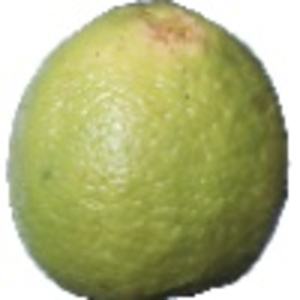limão: (8, 1, 289, 300)
